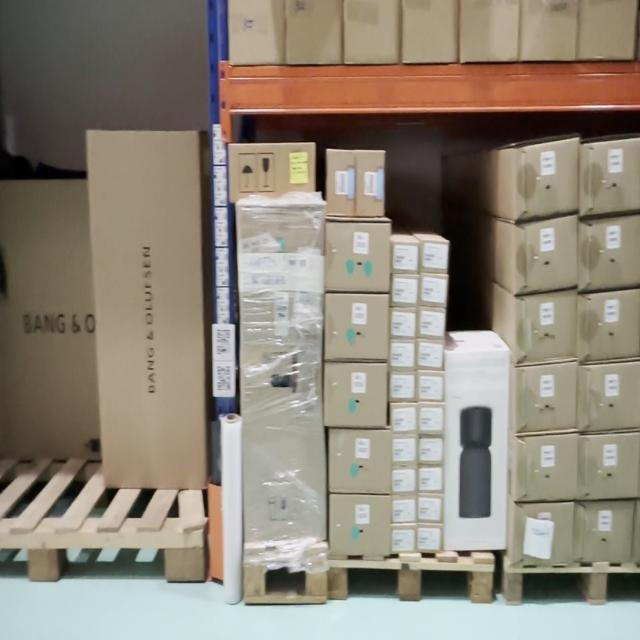box: (87, 133, 204, 489), (0, 180, 102, 465), (244, 205, 324, 541), (446, 355, 506, 548), (512, 137, 580, 221), (514, 213, 578, 294), (515, 290, 576, 367), (325, 220, 391, 290), (516, 359, 577, 433), (229, 144, 314, 197), (581, 138, 640, 214), (515, 431, 578, 502), (579, 216, 640, 289), (329, 429, 391, 495), (324, 365, 387, 427), (579, 366, 640, 428), (327, 296, 387, 359), (580, 435, 640, 497), (330, 495, 390, 555), (512, 505, 570, 563), (579, 297, 640, 352), (577, 504, 629, 560), (356, 153, 384, 213), (329, 149, 354, 214), (421, 242, 448, 272), (420, 307, 444, 340), (420, 278, 447, 306), (392, 277, 417, 307), (392, 244, 418, 272), (418, 405, 444, 433), (391, 436, 417, 464), (391, 311, 415, 340), (418, 374, 444, 399), (418, 526, 443, 552), (417, 344, 443, 368), (390, 345, 414, 371), (391, 406, 417, 430), (391, 376, 416, 400), (418, 469, 443, 493), (419, 497, 443, 522), (392, 527, 417, 551), (392, 467, 415, 493), (392, 498, 416, 522), (419, 441, 444, 464)
